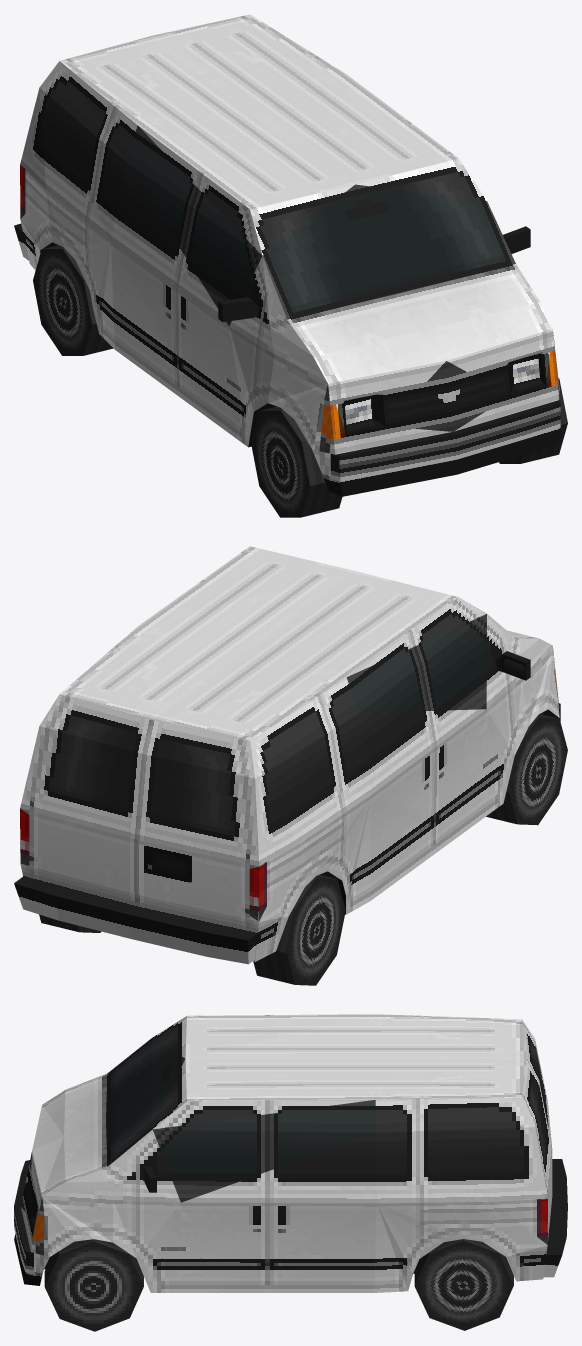
Rendered from van.glb.
3 renders of one model, top to bottom at view 1: azimuth 30°, elevation 25°; view 2: azimuth 150°, elevation 25°; view 3: azimuth 270°, elevation 25°, orthographic. The views are drawn at different scales.
Visible parts, largest first — view 1: body, wheel_fr, wheel_rr, wheel_fl; view 2: body, wheel_rr, wheel_fr; view 3: body, wheel_fl, wheel_rl.
Boxes of the visible parts, x1,y1,x2,y2 form: body: (14, 14, 560, 496); wheel_fr: (251, 406, 342, 517); wheel_rr: (33, 245, 113, 355); wheel_fl: (499, 378, 567, 463); body: (14, 546, 560, 964); wheel_rr: (253, 874, 345, 985); wheel_fr: (486, 713, 567, 825); body: (14, 1014, 567, 1292); wheel_fl: (44, 1239, 143, 1331); wheel_rl: (414, 1239, 513, 1330).
Size of what is drawn, in the model's own units: 1.56 by 1.28 by 2.9.
Materials: 4 (4 with a texture image).
